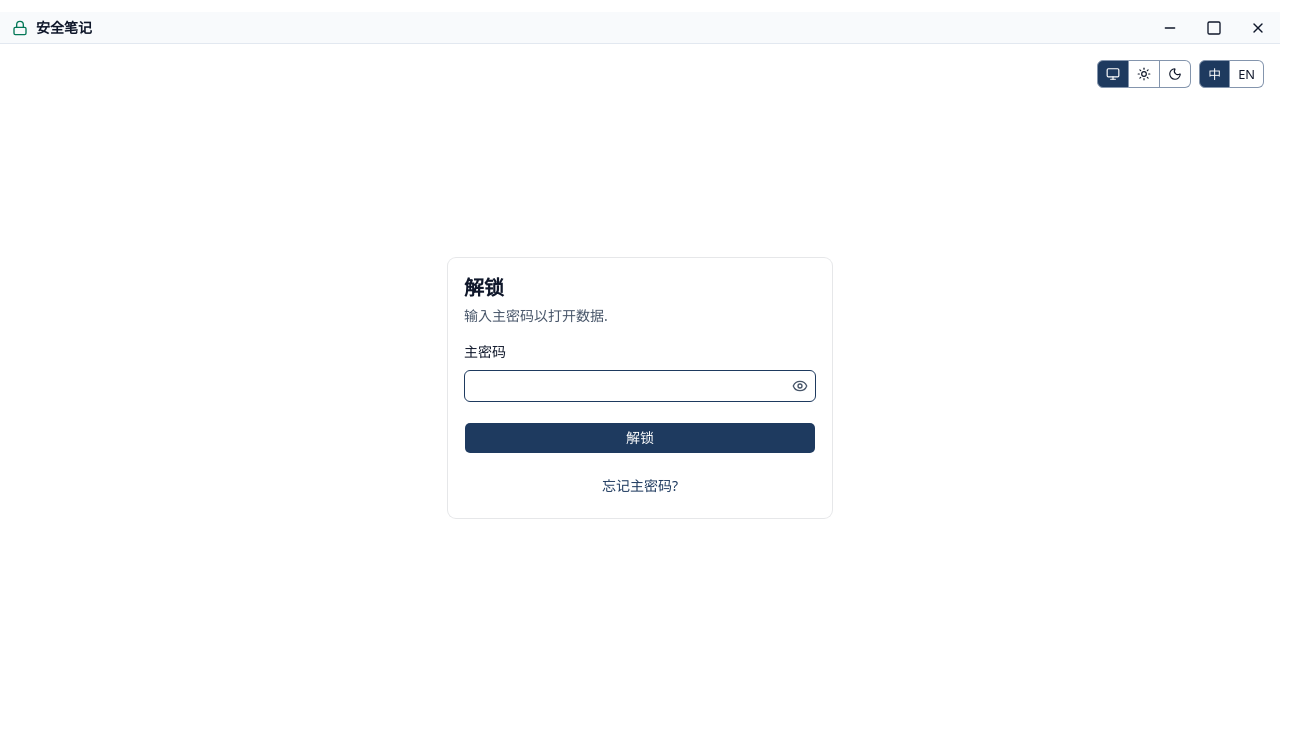
Test: App 标题栏随语言与最大化状态变化 › 切换成英文后应用名称与窗口按钮名称随之切换
Click the button with aria-label "English": x=1247, y=74 [1230,60,1264,88]
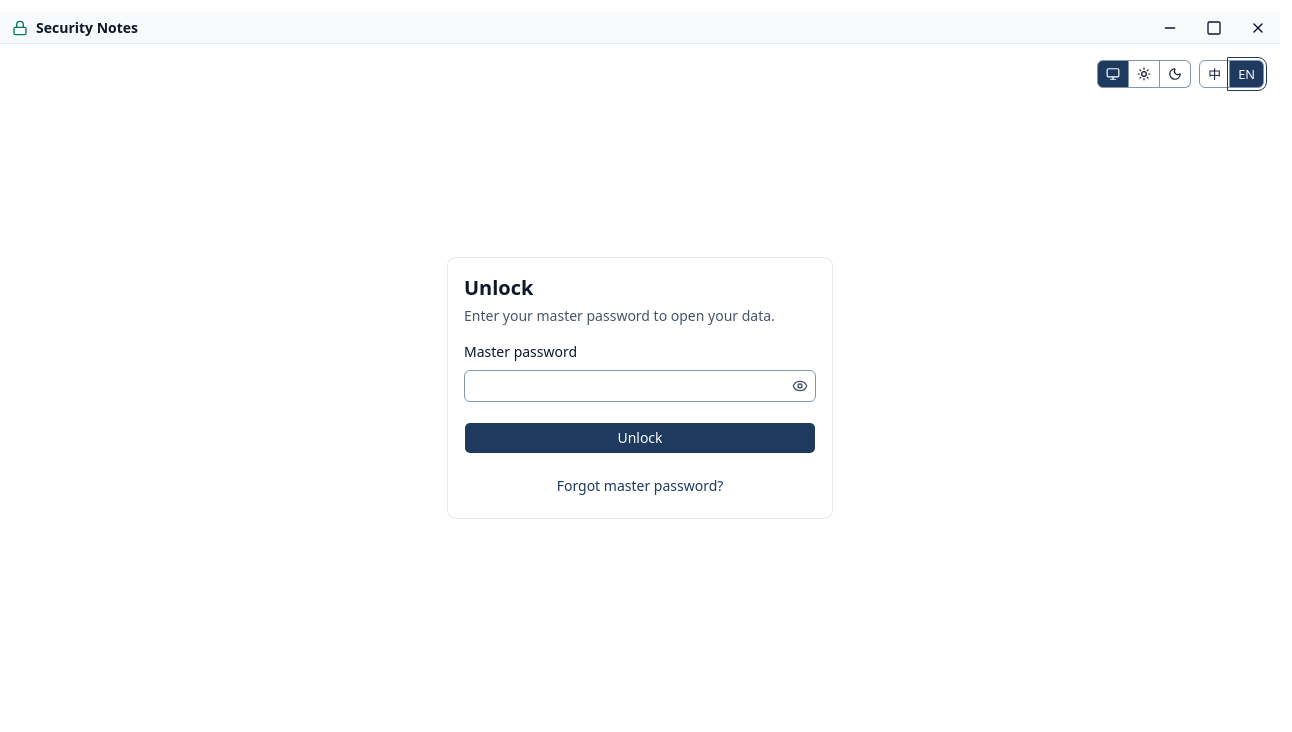
Expected: the button named "Minimize" is shown, [1148,12,1192,43]
Now the text "Security Notes" is shown, box [12,18,138,36]
